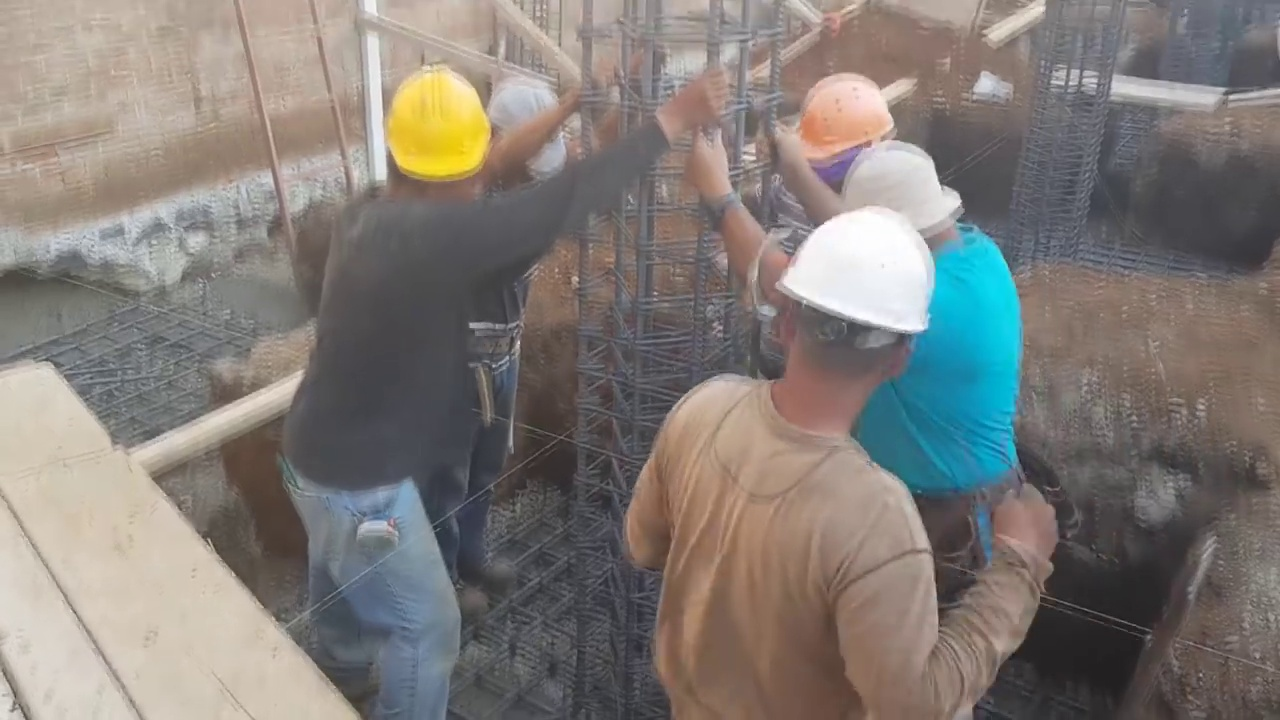helmet: (778, 210, 940, 336), (386, 65, 491, 181), (803, 69, 900, 159)
helmet-off: (838, 143, 980, 263), (485, 72, 569, 180)
helmet-on: (764, 207, 942, 452), (373, 58, 495, 206)
person: (278, 59, 728, 720), (625, 201, 1056, 718), (685, 129, 1057, 585), (457, 60, 584, 602), (763, 70, 900, 254)
